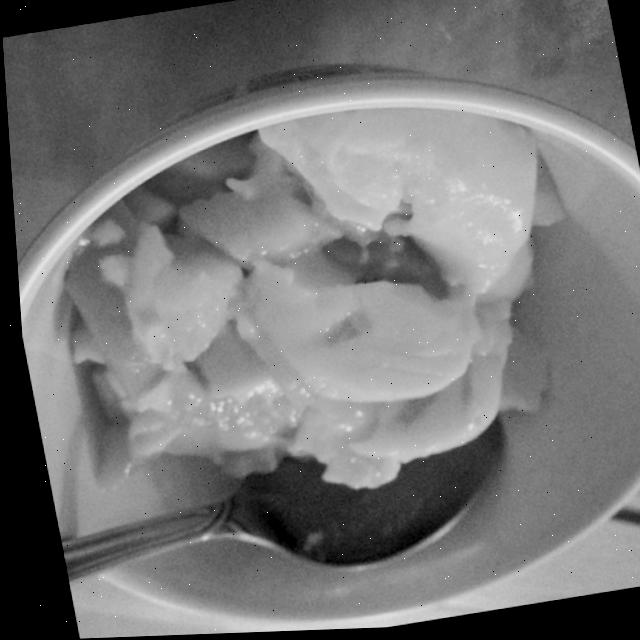蛋糕甜品: (2, 15, 621, 594)
